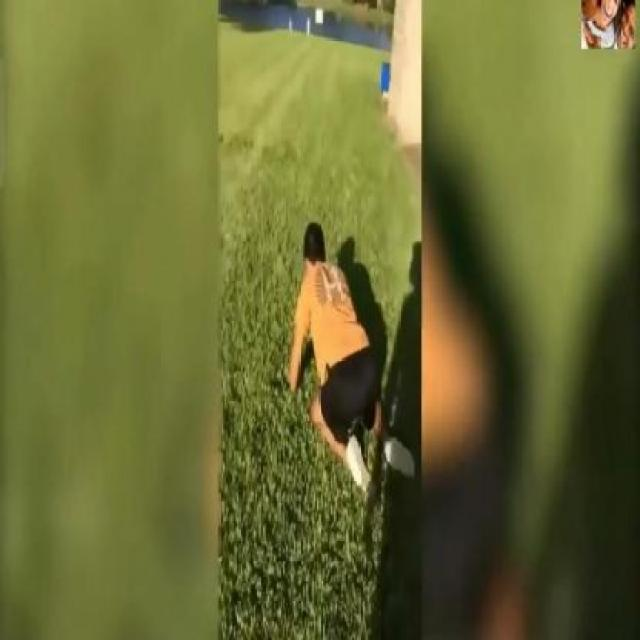fall: (282, 222, 420, 498)
